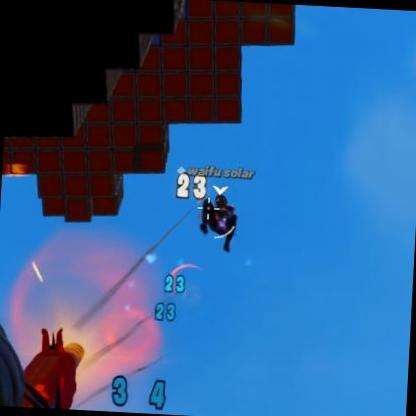person: (203, 188, 240, 245)
